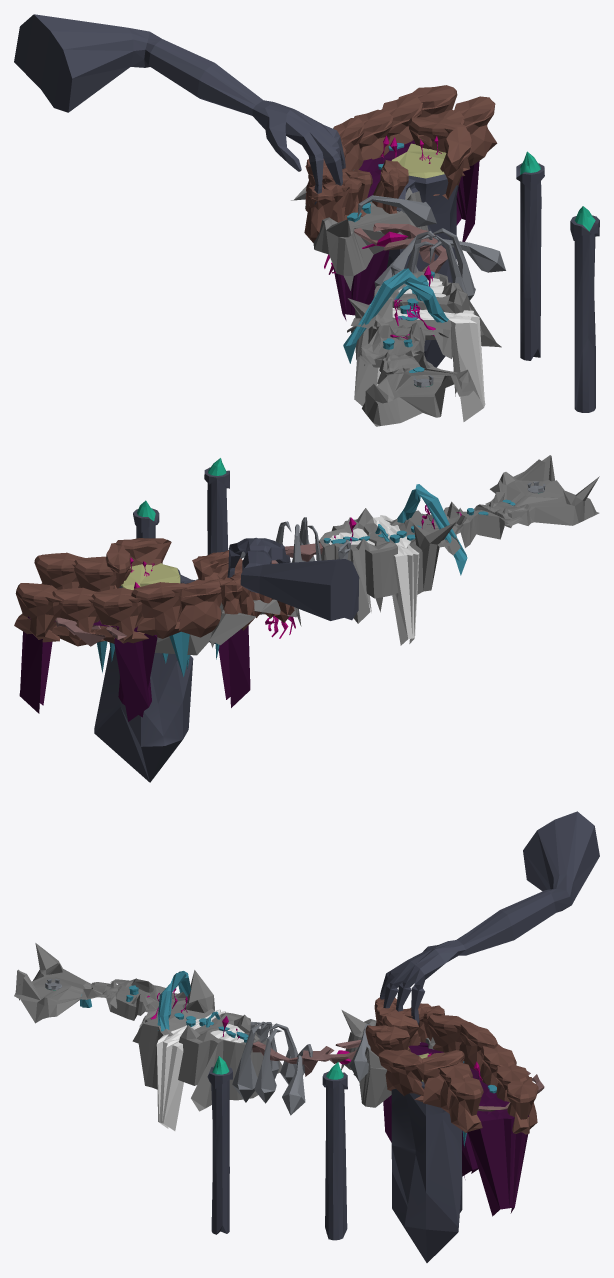
The model's file is SpiritWorldLevel01.fbx.
3 renders of one model, top to bottom at view 1: azimuth 30°, elevation 25°; view 2: azimuth 150°, elevation 25°; view 3: azimuth 270°, elevation 25°, orthographic. The views are drawn at different scales.
Parts seen in each view (by area): view 1: Hand, Ground, Pillar15, Pillar16, RockCylinder37, Ground3, Ground2, WaterNonDangerous, WaterDangerous, StrangeVault, Ground1, CliffWall94 (+15 smaller); view 2: RockCylinder37, Hand, Ground2, Ground, WaterDangerous1, WaterNonDangerous, WaterDangerous, CliffWall85, CliffWall88, CliffWall93, CliffWall84, Pillar15 (+14 smaller); view 3: Hand, RockCylinder37, Ground2, WaterDangerous1, Pillar16, Ground, Pillar15, WaterNonDangerous, Ground3, Ground1, CliffWall94, CliffWall87 (+14 smaller).
Part boxes in pixels (x1,y1,x2,y2): Hand: (14,14,345,204); Ground: (362,350,480,426); Pillar15: (570,206,599,412); Pillar16: (516,151,544,360); RockCylinder37: (380,143,458,367); Ground3: (291,185,428,290); Ground2: (348,271,501,396); WaterNonDangerous: (354,304,485,421); WaterDangerous: (333,157,389,320); StrangeVault: (343,268,448,363); Ground1: (347,314,448,365); CliffWall94: (454,96,497,165); RockCylinder37: (94,563,193,782); Hand: (227,537,359,620); Ground2: (319,508,456,623); Ground: (474,455,599,527); WaterDangerous1: (19,616,151,721); WaterNonDangerous: (367,515,419,645); WaterDangerous: (118,620,250,717); CliffWall85: (131,582,188,638); CliffWall88: (91,587,148,643); CliffWall93: (14,583,61,642); CliffWall84: (178,579,223,637); Pillar15: (204,458,229,643); Hand: (380,811,599,1024); RockCylinder37: (391,1053,462,1262); Ground2: (132,970,282,1111); WaterDangerous1: (464,1077,528,1216); Pillar16: (322,1062,347,1240); Ground: (14,943,122,1023); Pillar15: (207,1056,232,1234); WaterNonDangerous: (156,1009,225,1130); Ground3: (341,1010,435,1107); Ground1: (106,978,186,1027); CliffWall94: (448,1076,483,1132); CliffWall87: (378,1049,424,1096).
Size of the model in its own units: 363 by 329 by 532.
